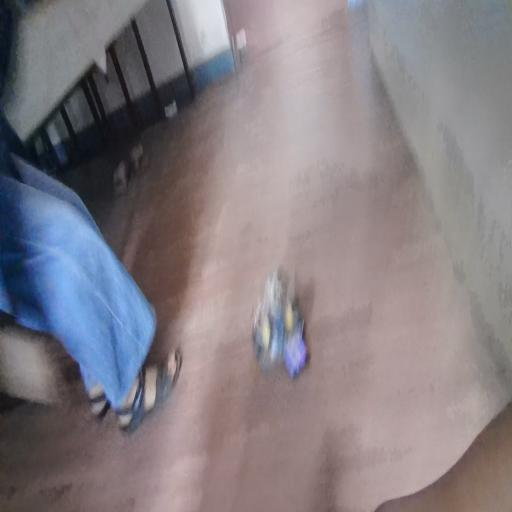car: (250, 303, 322, 364)
